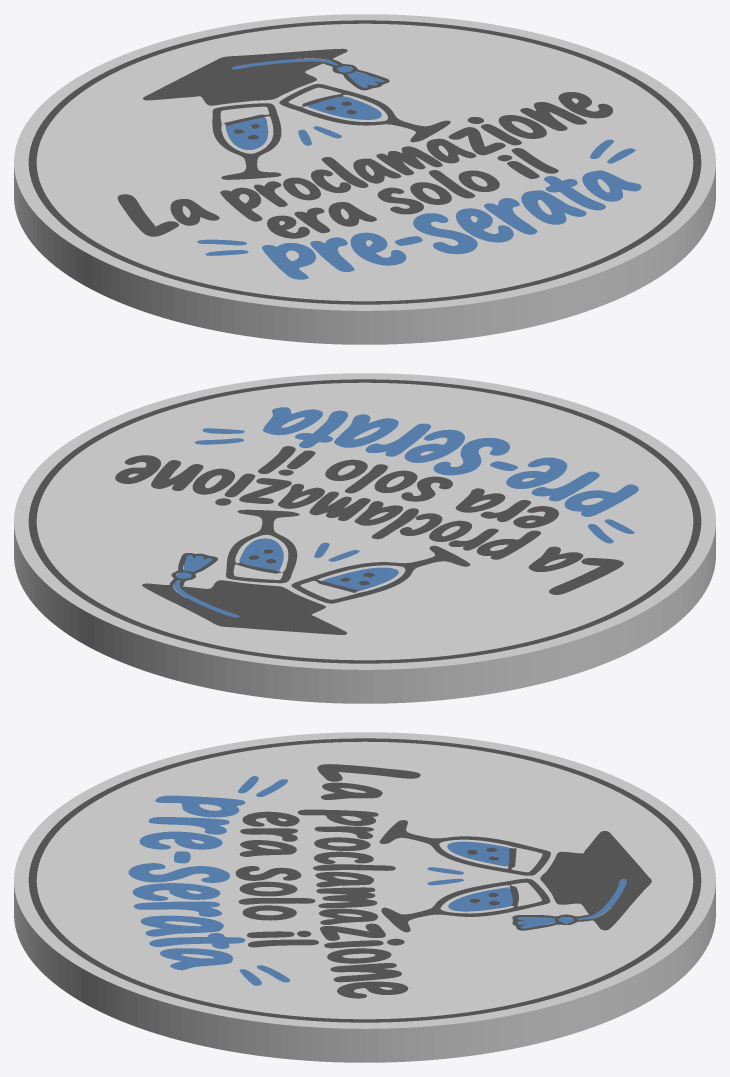
The model's file is sottobicchiere-proclamazione-pre-serata.glb.
3 views of the same model, one above another, from view 1: azimuth 30°, elevation 25°; view 2: azimuth 150°, elevation 25°; view 3: azimuth 270°, elevation 25° (orthographic).
Visible parts, largest first — view 1: coaster_base, coaster_ink, coaster_accent; view 2: coaster_base, coaster_ink, coaster_accent; view 3: coaster_base, coaster_ink, coaster_accent.
Part boxes in pixels (x1,y1,x2,y2): coaster_base: (14, 14, 715, 344); coaster_ink: (28, 20, 701, 304); coaster_accent: (197, 58, 641, 279); coaster_base: (14, 373, 715, 703); coaster_ink: (28, 379, 701, 663); coaster_accent: (173, 407, 638, 617); coaster_base: (14, 732, 715, 1062); coaster_ink: (28, 738, 701, 1022); coaster_accent: (128, 776, 626, 985).
Bounding box in the file's own units: 0.075 × 0.004 × 0.075.
